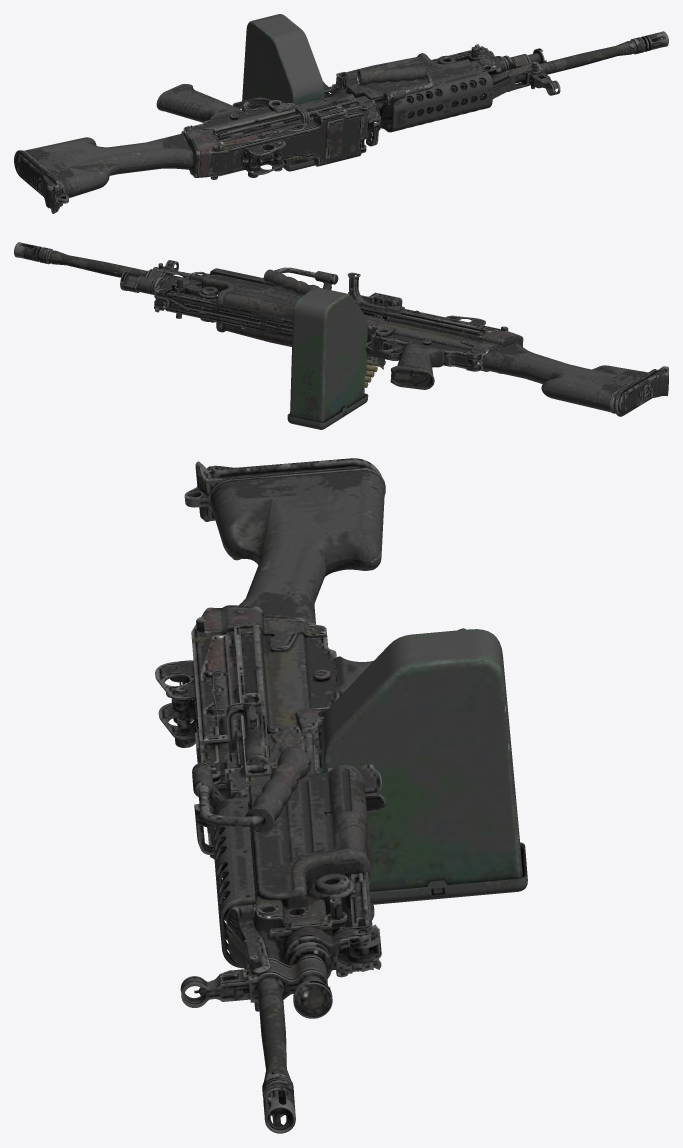
3 renders of one model, top to bottom at view 1: azimuth 30°, elevation 25°; view 2: azimuth 150°, elevation 25°; view 3: azimuth 270°, elevation 25°, orthographic. The views are drawn at different scales.
Parts seen in each view (by area): view 1: w_m249; view 2: w_m249; view 3: w_m249.
Boxes of the visible parts, left/top/right/bottom form: w_m249: left=14, top=14, right=668, bottom=213; w_m249: left=14, top=242, right=668, bottom=429; w_m249: left=155, top=458, right=527, bottom=1133.
Size of the model in its own units: 1.64 by 0.3079 by 0.418.
Materials: 1 (1 with a texture image).
